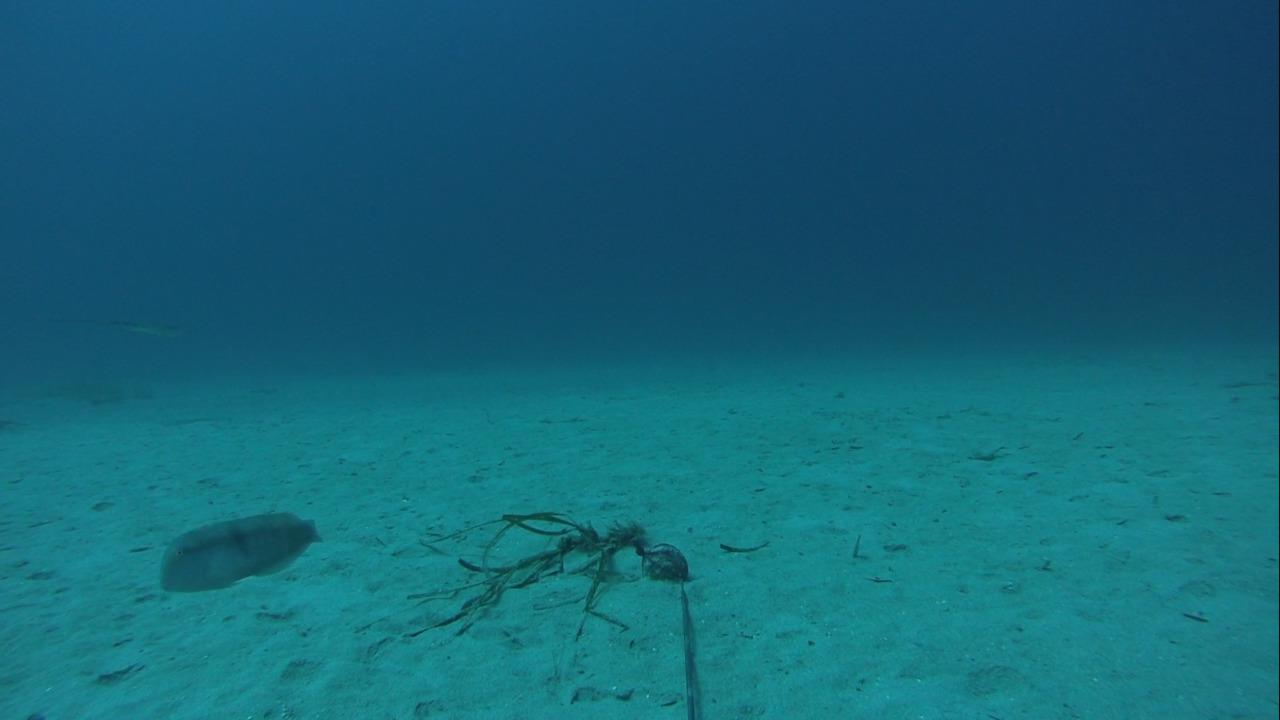myliobatis: (18, 302, 196, 348)
raor: (153, 506, 325, 592)
